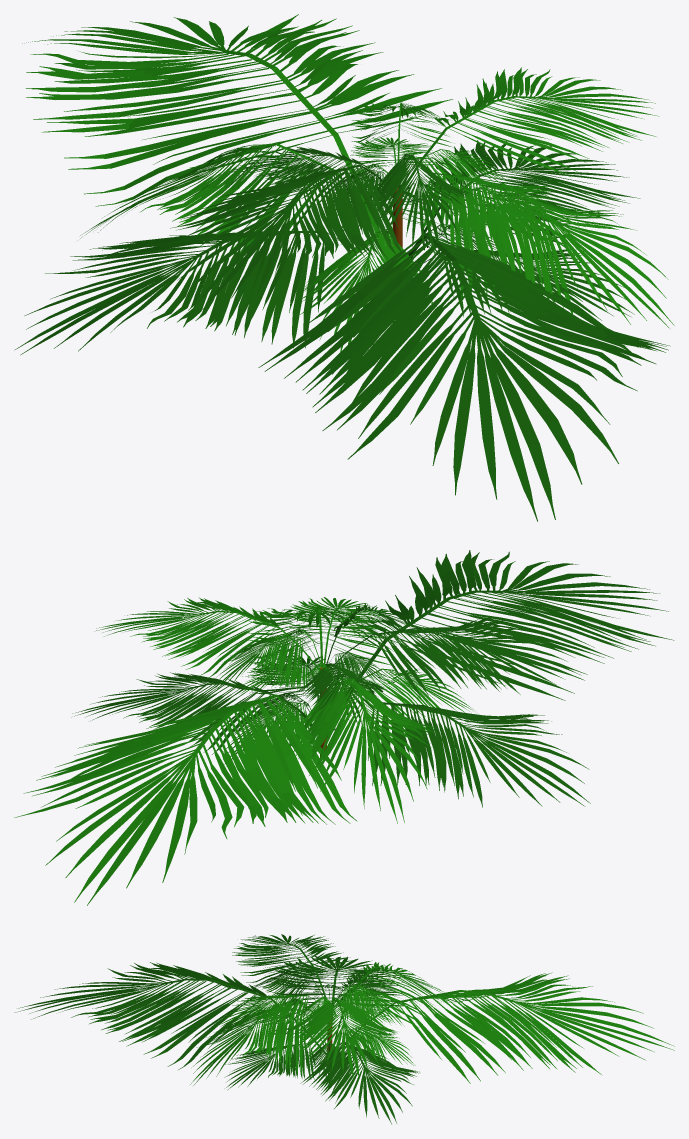
The model's file is buisson immonde.fbx.
3 renders of one model, top to bottom at view 1: azimuth 30°, elevation 25°; view 2: azimuth 150°, elevation 25°; view 3: azimuth 270°, elevation 25°, orthographic. The views are drawn at different scales.
Parts seen in each view (by area): view 1: buisson; view 2: buisson; view 3: buisson.
Part boxes in pixels (bbox=[...]): buisson: bbox=[14, 14, 674, 521]; buisson: bbox=[14, 550, 674, 905]; buisson: bbox=[14, 934, 674, 1124].
Bounding box in the file's own units: 3354 × 890 × 5563.
